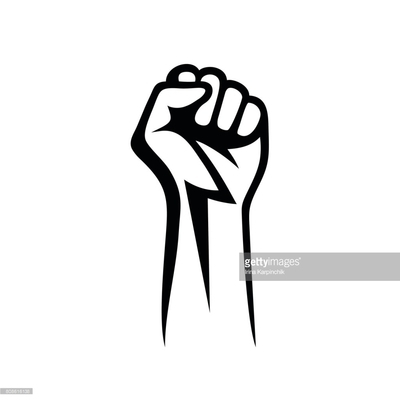closedhandfront: (117, 54, 283, 214)
